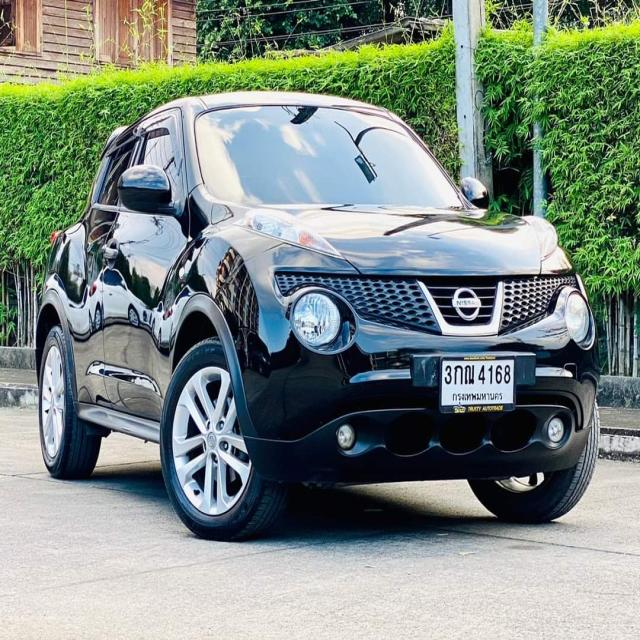license_plate: (436, 351, 520, 416)
